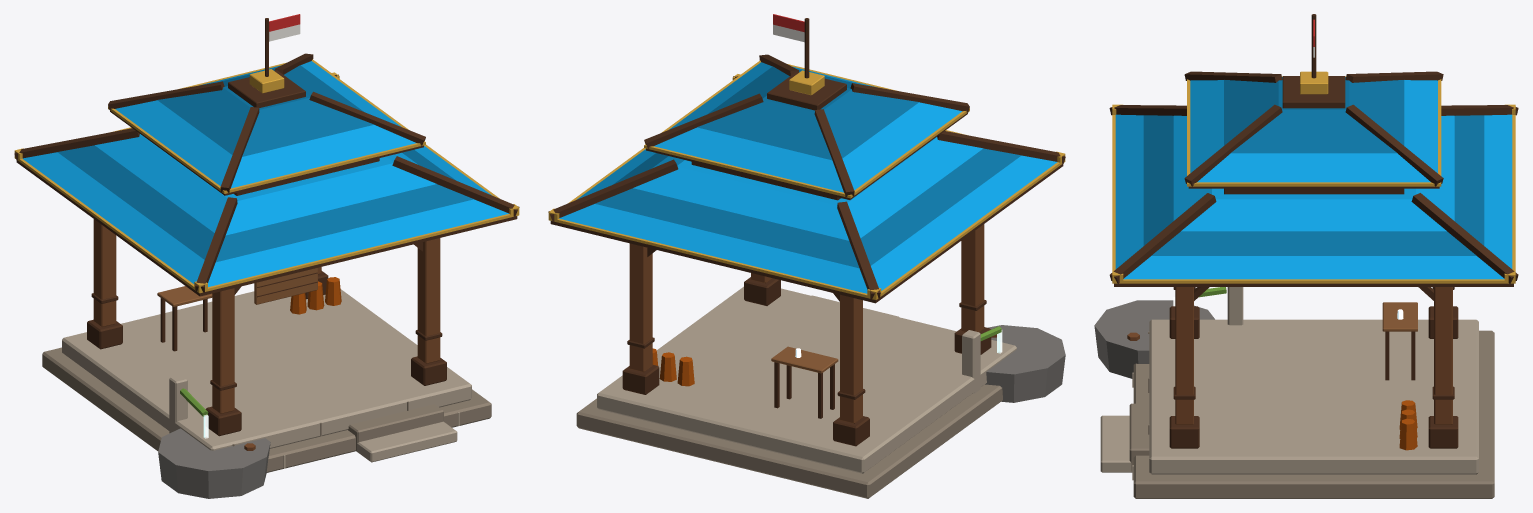
File: rumah_mata_air_v001.glb
3 renders of one model, left to right at view 1: azimuth 30°, elevation 25°; view 2: azimuth 150°, elevation 25°; view 3: azimuth 270°, elevation 25°, orthographic. The views are drawn at different scales.
Visible parts, largest first — view 1: Rumah_Mata_Air, Papan_Nama; view 2: Rumah_Mata_Air; view 3: Rumah_Mata_Air.
Part boxes in pixels (x1=…): Rumah_Mata_Air: x1=14, y1=14, x2=519, y2=498; Papan_Nama: x1=254, y1=268, x2=317, y2=304; Rumah_Mata_Air: x1=548, y1=14, x2=1065, y2=498; Rumah_Mata_Air: x1=1094, y1=14, x2=1518, y2=498.
Size of the model in its own units: 5.37 by 5.75 by 5.41.
